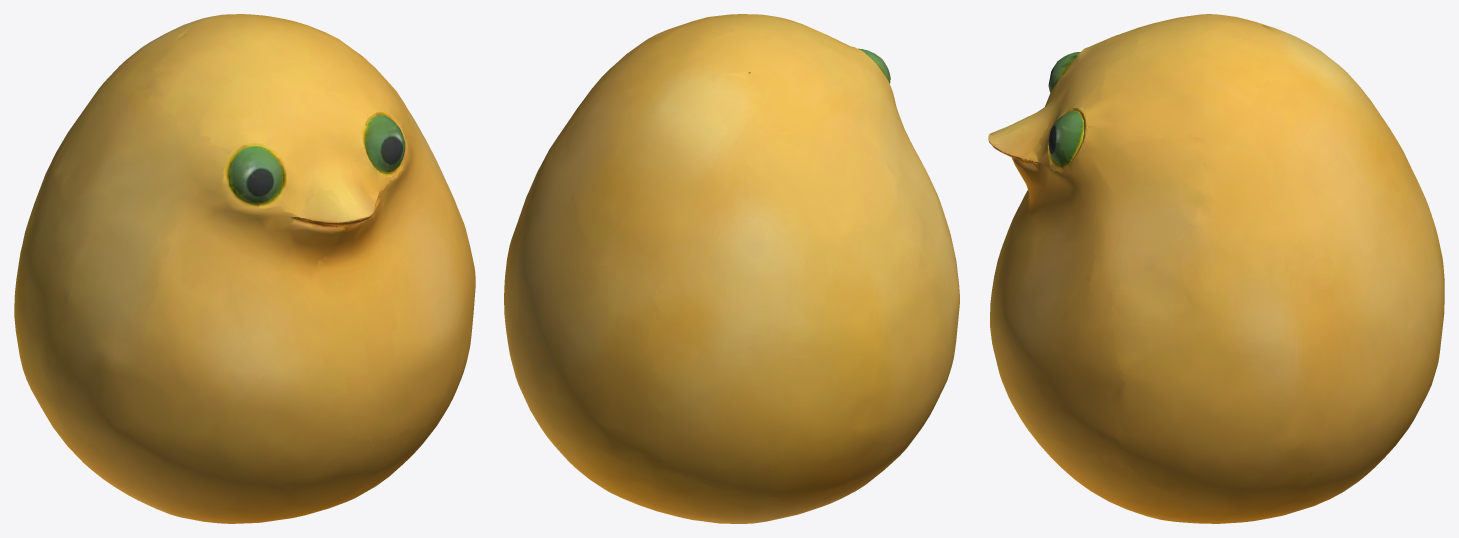
File: naiwa_naidan_runtime.glb
3 views of the same model, side by side, from view 1: azimuth 30°, elevation 25°; view 2: azimuth 150°, elevation 25°; view 3: azimuth 270°, elevation 25° (orthographic).
Parts seen in each view (by area): view 1: geometry_0; view 2: geometry_0; view 3: geometry_0.
Boxes of the visible parts, x1=… form: geometry_0: x1=14, y1=14, x2=475, y2=523; geometry_0: x1=504, y1=14, x2=959, y2=523; geometry_0: x1=988, y1=14, x2=1444, y2=523.
Bounding box in the file's own units: 0.1377 × 0.15 × 0.1376.
Materials: 1 (1 with a texture image).
